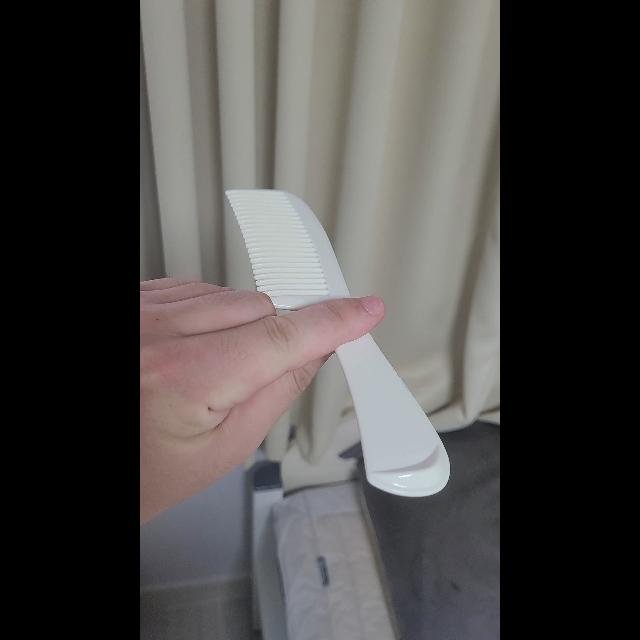COMB: (225, 188, 450, 498)
